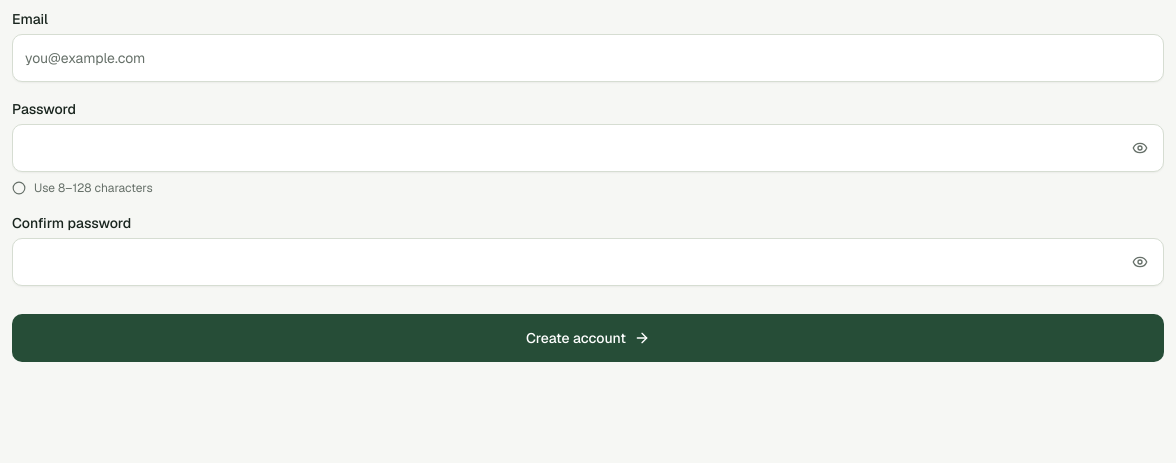
Scenario: registration form › blocks invalid submission and focuses the first invalid field
The width and height of the screenshot is (1176, 463).
Click the button "Create account": coordinates (588, 338) [12, 314, 1164, 362]
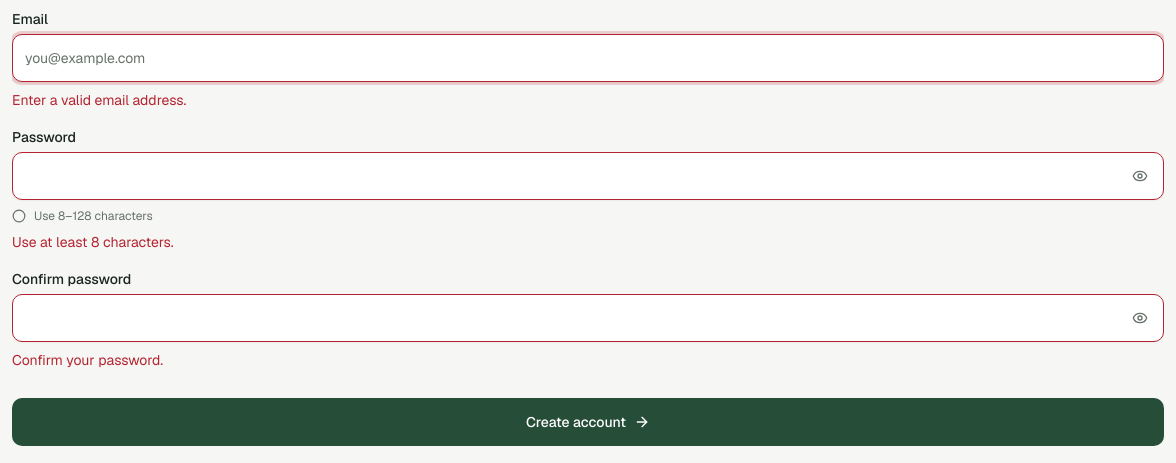
Expected: the text "Use at least 8 characters." is shown, [12, 233, 174, 251]
